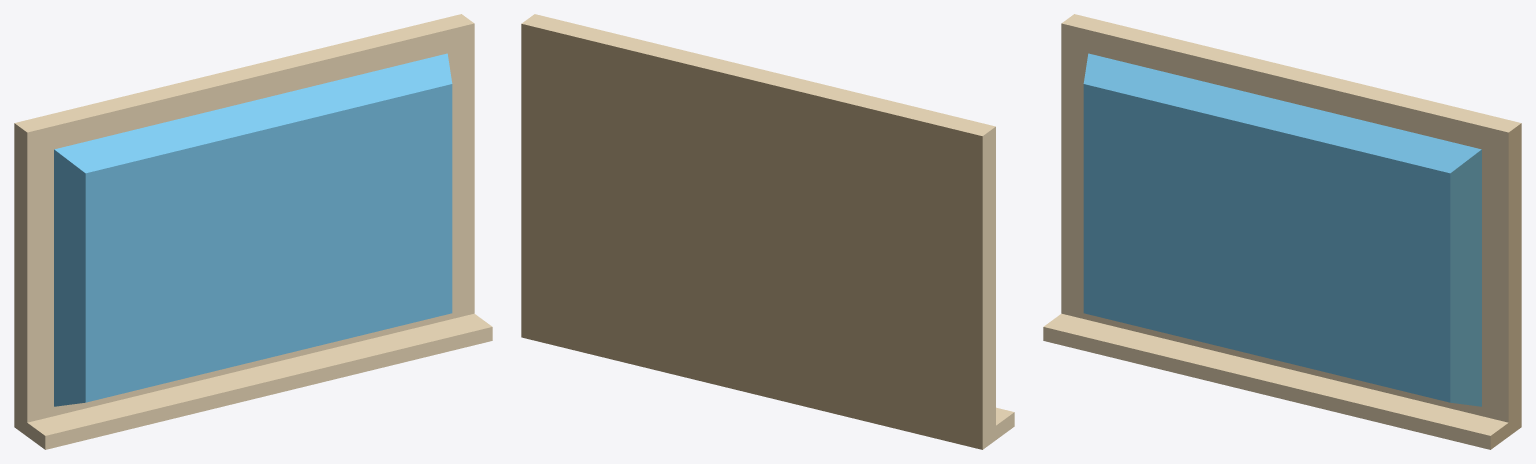
The model's file is paper_button.glb.
The picture shows the model from 3 angles, left to right: view 1: azimuth 30°, elevation 25°; view 2: azimuth 150°, elevation 25°; view 3: azimuth 330°, elevation 25°; orthographic projection. The views are drawn at different scales.
Parts seen in each view (by area): view 1: press, card; view 2: card; view 3: press, card.
Boxes of the visible parts, bbox=[...] form: press: bbox=[54, 53, 452, 406]; card: bbox=[14, 14, 492, 449]; card: bbox=[521, 14, 1014, 449]; press: bbox=[1083, 53, 1481, 406]; card: bbox=[1043, 14, 1521, 449].
Bounding box in the file's own units: 0.1 × 0.065 × 0.012.
